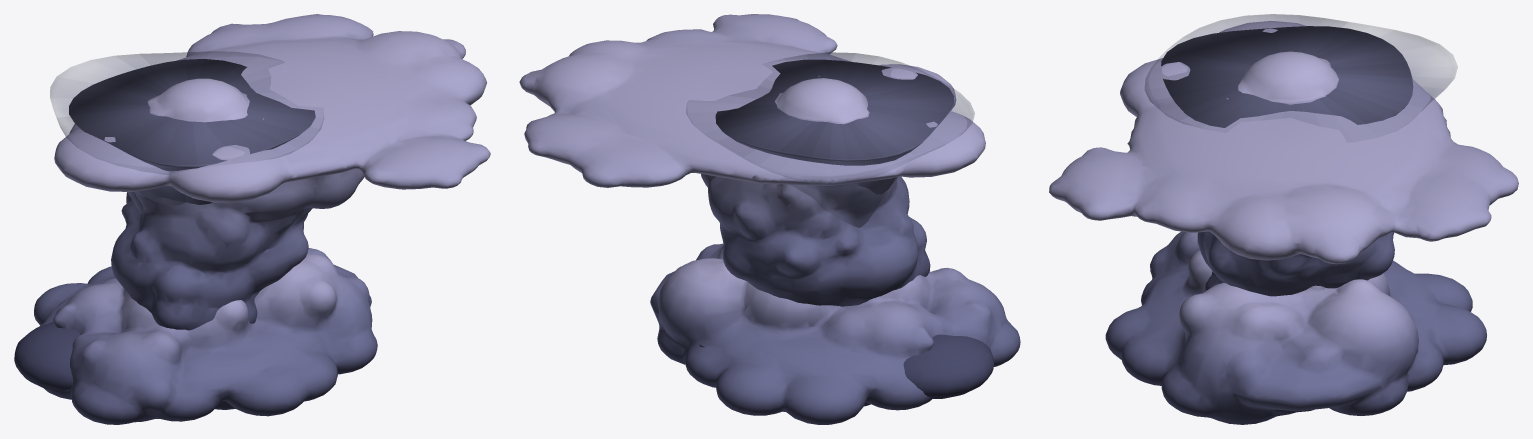
Rendered from FlyHigh_StormLookDev.glb.
3 renders of one model, left to right at view 1: azimuth 30°, elevation 25°; view 2: azimuth 150°, elevation 25°; view 3: azimuth 270°, elevation 25°, orthographic. The views are drawn at different scales.
Parts seen in each view (by area): view 1: StormCumulonimbus, StormWallCloud, StormFunnelShell, StormFunnelCore; view 2: StormCumulonimbus, StormWallCloud, StormFunnelShell, StormFunnelCore; view 3: StormCumulonimbus, StormWallCloud, StormFunnelShell, StormFunnelCore.
Part boxes in pixels (x1=…): StormCumulonimbus: x1=14, y1=14, x2=490, y2=390; StormWallCloud: x1=34, y1=248, x2=377, y2=424; StormFunnelShell: x1=50, y1=51, x2=323, y2=213; StormFunnelCore: x1=69, y1=59, x2=315, y2=204; StormCumulonimbus: x1=519, y1=14, x2=993, y2=398; StormWallCloud: x1=650, y1=243, x2=1020, y2=424; StormFunnelShell: x1=686, y1=52, x2=974, y2=227; StormFunnelCore: x1=715, y1=59, x2=954, y2=194; StormCumulonimbus: x1=1049, y1=21, x2=1518, y2=412; StormWallCloud: x1=1105, y1=231, x2=1486, y2=424; StormFunnelShell: x1=1144, y1=14, x2=1457, y2=134; StormFunnelCore: x1=1161, y1=26, x2=1413, y2=127.
Bounding box in the file's own units: 398 × 244 × 329.
Materials: 3 (3 with a texture image).
